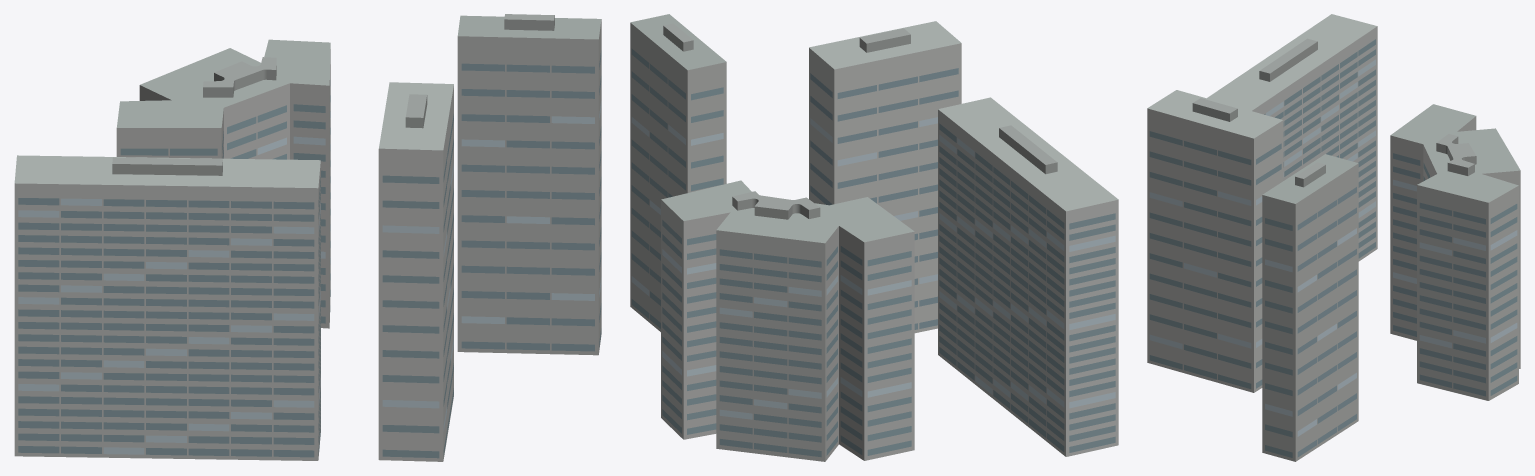
The model's file is apt-a15004502.glb.
The picture shows the model from 3 angles, left to right: view 1: azimuth 30°, elevation 25°; view 2: azimuth 150°, elevation 25°; view 3: azimuth 270°, elevation 25°; orthographic projection. The views are drawn at different scales.
Visible parts, largest first — view 1: apt-a15004502; view 2: apt-a15004502; view 3: apt-a15004502.
Part boxes in pixels (x1,y1,x2,y2): apt-a15004502: (14, 14, 601, 461); apt-a15004502: (630, 14, 1118, 461); apt-a15004502: (1147, 14, 1520, 461).
Size of the model in its own units: 138 by 76 by 96.62.
